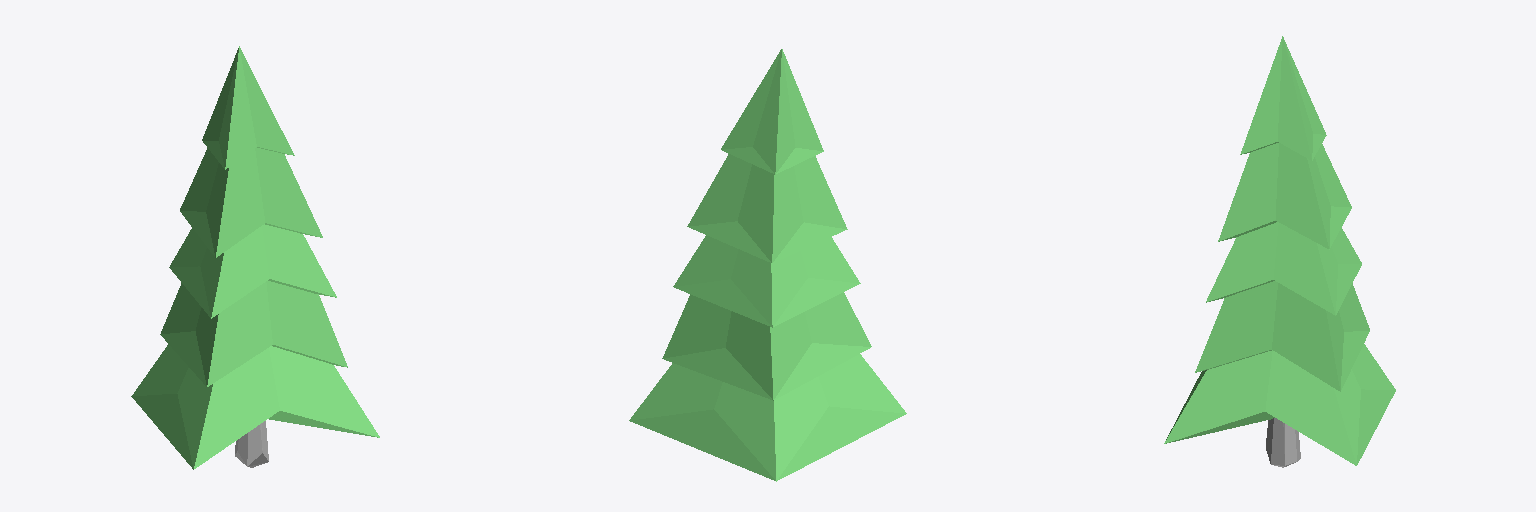
The picture shows the model from 3 angles: view 1: azimuth 30°, elevation 25°; view 2: azimuth 150°, elevation 25°; view 3: azimuth 270°, elevation 25°; orthographic projection.
Visible parts, largest first — view 1: Cone.007, Cube; view 2: Cone.007; view 3: Cone.007, Cube.
Part boxes in pixels (x1,y1,x2,y2): Cone.007: (131,46,379,469); Cube: (235,421,268,467); Cone.007: (629,49,906,481); Cone.007: (1164,36,1395,465); Cube: (1266,418,1300,467).
Size of the model in its own units: 0.1125 by 0.227 by 0.1124.
Materials: 2 (2 with a texture image).